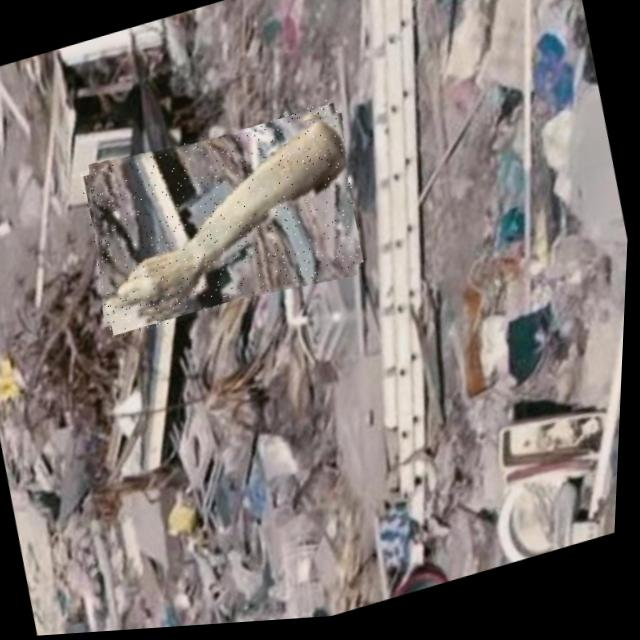Person in Rubble: (75, 99, 376, 344)
